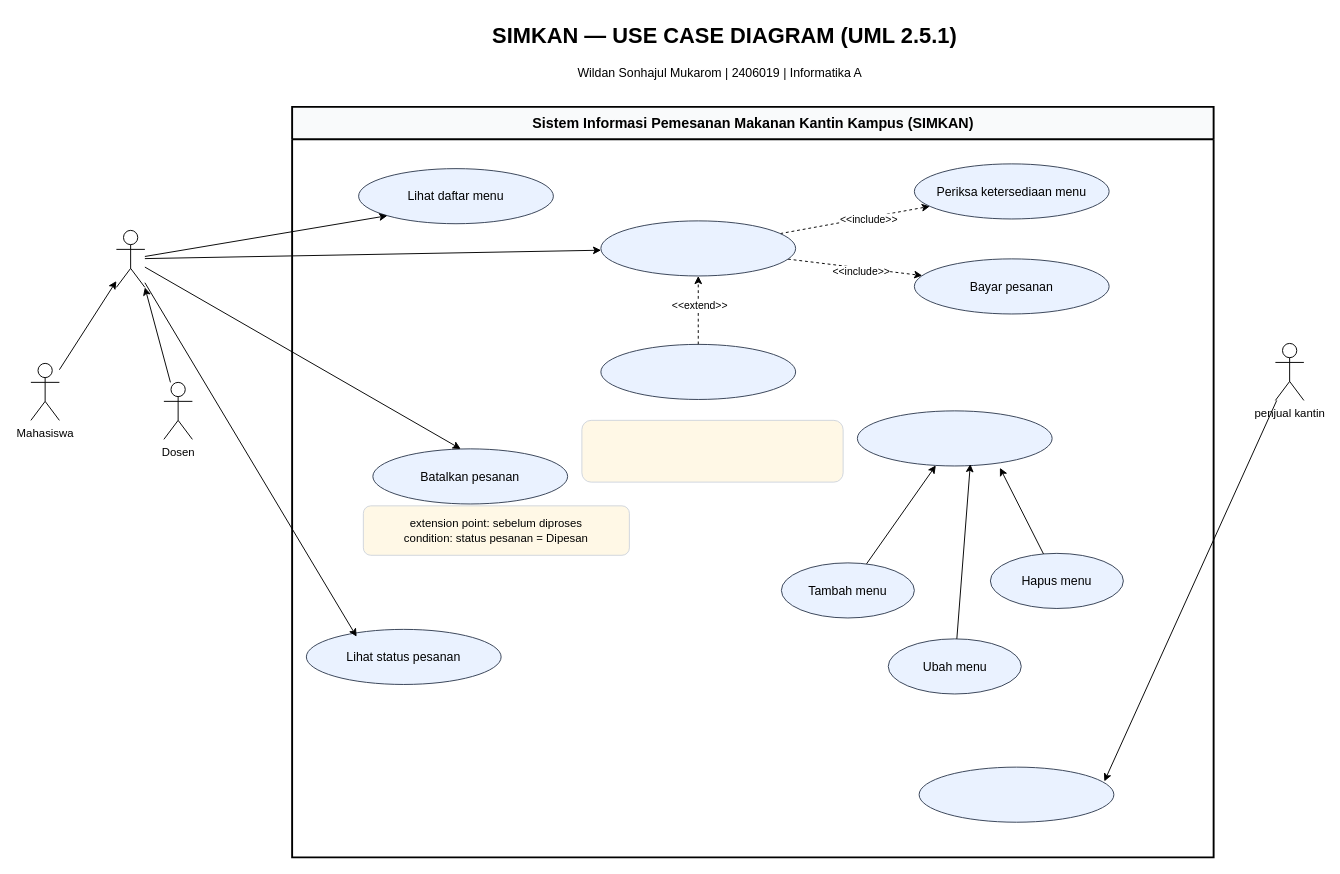
The diagram is 1340 pixels wide and 874 high, and some of its shapes have lost their labels. The box of each missing label's shape, as (x1, y1, x2, y2) in pixels:
extension point: opsi pengantaran condition: pelanggan memilih antar ke ruangan: (581, 419, 843, 482)
Kelola data menu: (856, 410, 1052, 466)
Lihat laporan penjualan: (918, 766, 1114, 822)
Memesan makanan: (600, 220, 796, 276)
pelanggan: (115, 229, 145, 287)
Pilih antar ke ruangan: (600, 343, 796, 399)
